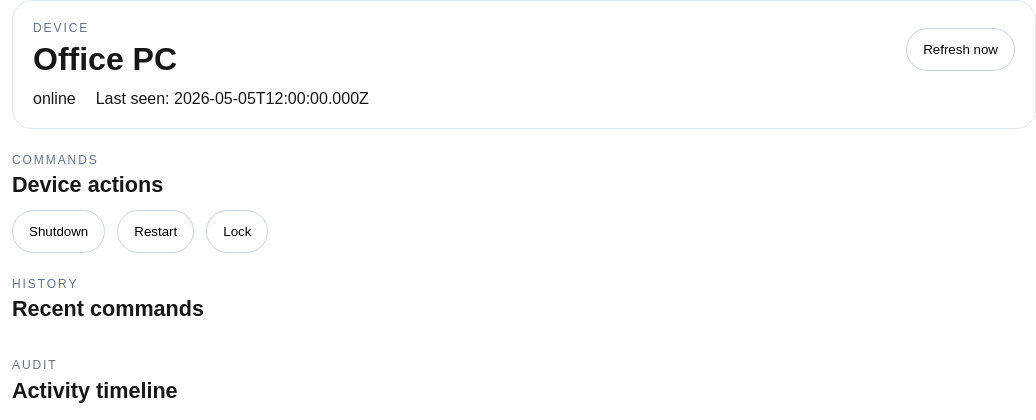
Test: device polling provider › refreshes device state from dashboard proxy routes
Check: the text "online" is shown, box [33, 90, 76, 108]
Click the button "Refresh now".
click(961, 49)  # box [906, 28, 1015, 71]
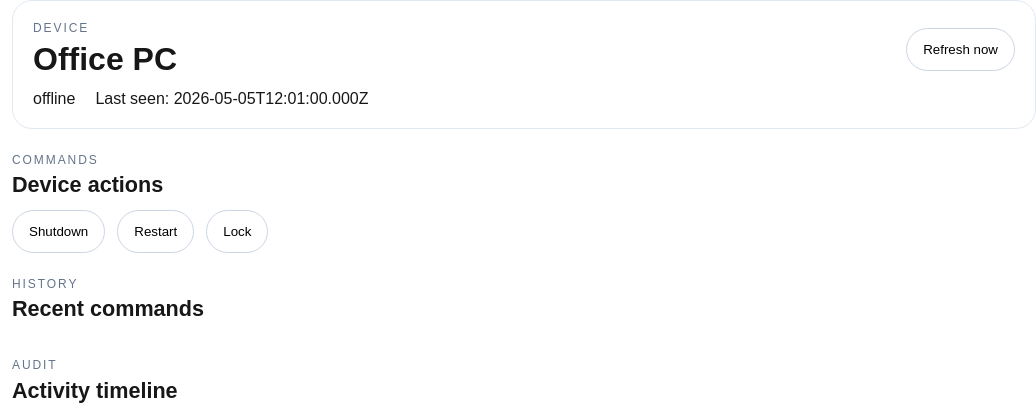
Check: the text "offline" is shown, box [33, 90, 75, 108]
